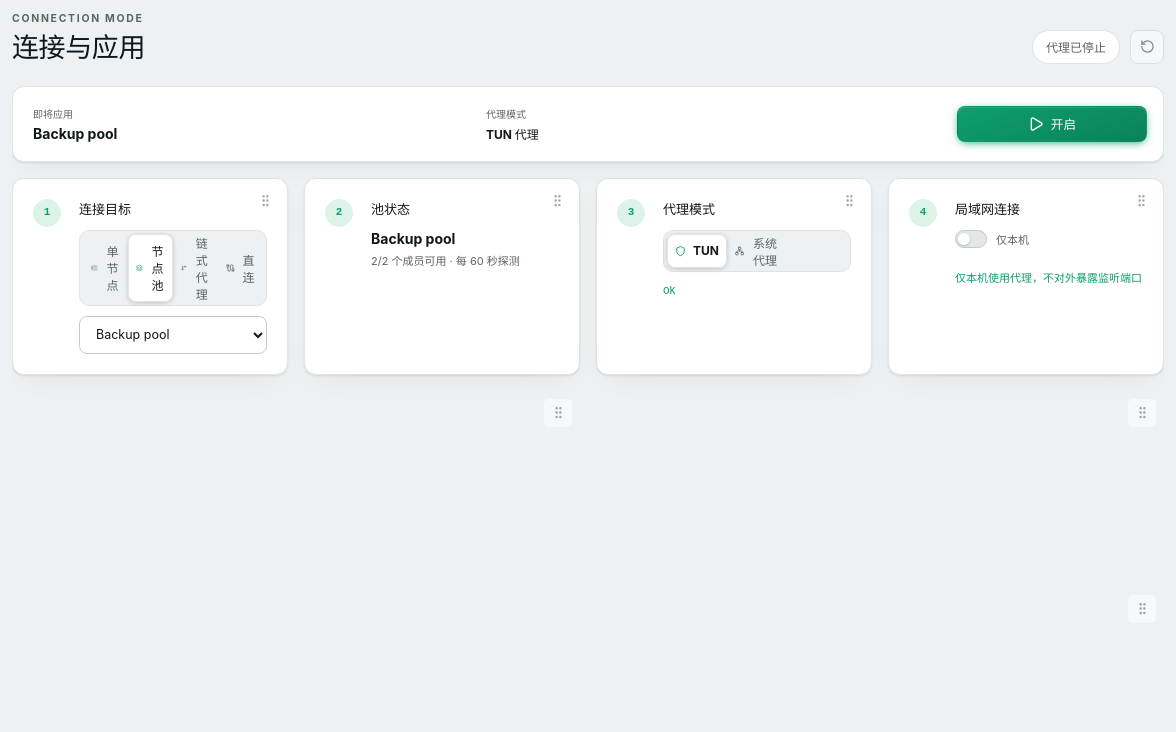
ConnectionView › restores the target type and each dropdown option
Expected: the dropdown named "选择节点池" shows "Backup pool", [79,316,267,354]
Click the button "单节点".
click(106, 268)  # box [83,234,128,302]
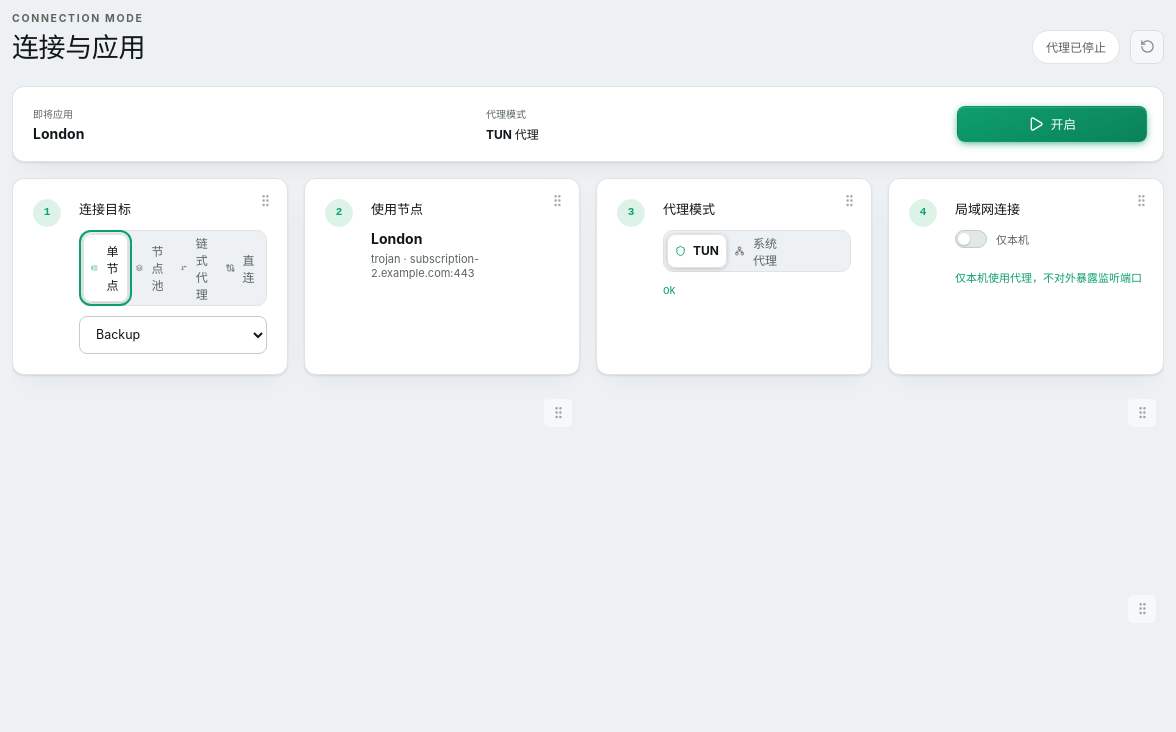
Result: the dropdown named "选择订阅" shows "Backup" at [79,316,267,354]
